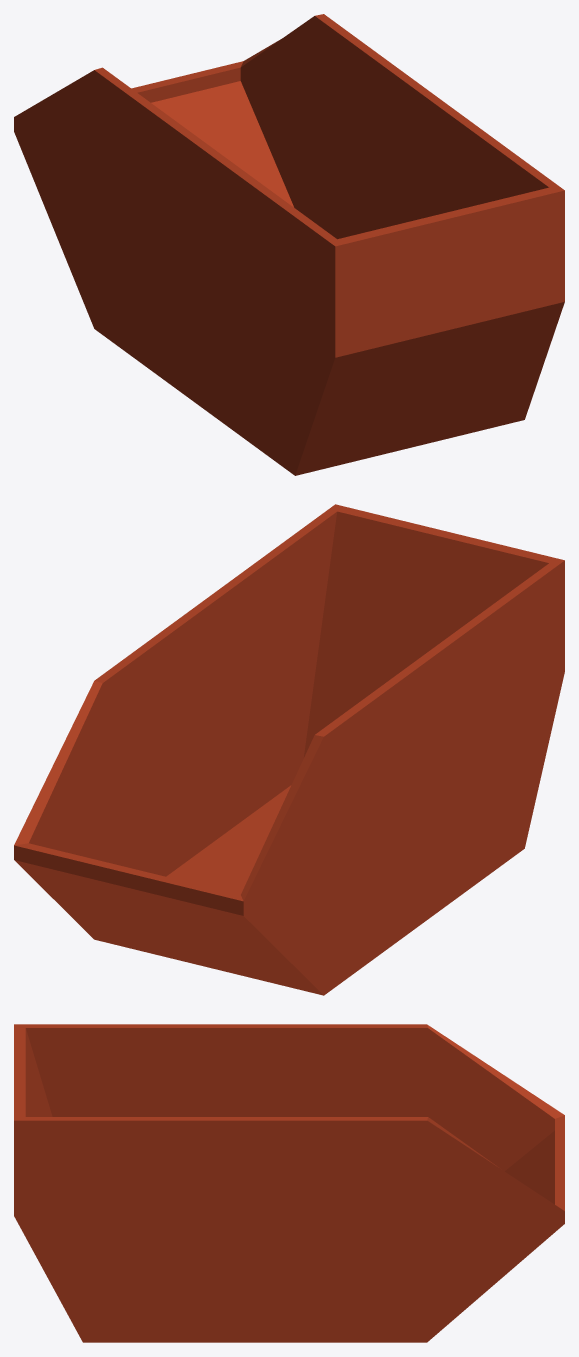
File: skip_red.glb
3 renders of one model, top to bottom at view 1: azimuth 30°, elevation 25°; view 2: azimuth 150°, elevation 25°; view 3: azimuth 270°, elevation 25°, orthographic. The views are drawn at different scales.
Parts seen in each view (by area): view 1: Container_Red; view 2: Container_Red; view 3: Container_Red.
Part boxes in pixels (x1,y1,x2,y2): Container_Red: [14, 14, 564, 475]; Container_Red: [14, 504, 564, 995]; Container_Red: [14, 1024, 564, 1342].
Bounding box in the file's own units: 1.65 × 1.78 × 4.
1 material, 1 textured.
